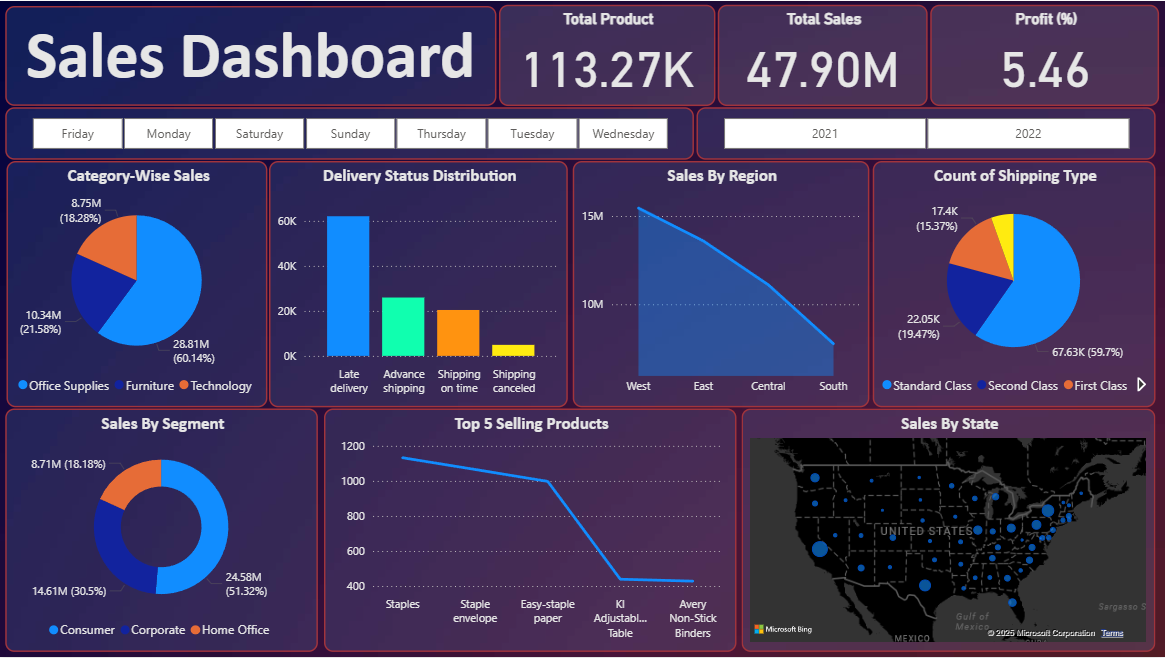

Layout of this report page (visuals, bound fields, positions):
{"tool":"powerbi","page":{"name":"Dashboard","canvas":[1280,720],"ordinal":0},"visuals":[{"type":"pieChart","title":"Category-Wise Sales","fields":{"Category":["sales data bi.category_name"],"Y":["Sum(sales data bi.Total_Sales)"]},"box":[8.2,175.6,286.8,270.3],"z":0},{"type":"map","title":"Sales By State","fields":{"Size":["Sum(sales data bi.Total_Sales)"],"Category":["sales data bi.customer_state"]},"box":[815.1,447.3,454.2,267.6],"z":1000},{"type":"lineChart","title":"Top 5 Selling Products","fields":{"Category":["sales data bi.product_name"],"Y":["Sum(sales data bi.quantity)"]},"box":[356.8,447.3,452.8,267.6],"z":2000},{"type":"donutChart","title":"Sales By Segment","fields":{"Category":["sales data bi.customer_segment"],"Y":["Sum(sales data bi.Total_Sales)"]},"box":[6.9,447.3,343.1,267.6],"z":3000},{"type":"areaChart","title":"Sales By Region","fields":{"Y":["Sum(sales data bi.Total_Sales)"],"Category":["sales data bi.customer_region"]},"box":[629.8,175.6,325.2,270.3],"z":4000},{"type":"columnChart","title":"Delivery Status Distribution","fields":{"Category":["sales data bi.delivery_status"],"Y":["CountNonNull(sales data bi.delivery_status)"]},"box":[296.4,175.6,328,270.3],"z":5000},{"type":"pieChart","title":"Count of Shipping Type","fields":{"Category":["sales data bi.shipping_type"],"Y":["CountNonNull(sales data bi.shipping_type)"]},"box":[959.2,175.6,310.1,270.3],"z":6000},{"type":"slicer","fields":{"Values":["sales data bi.Order Day"]},"box":[6.9,116.6,756.1,57.6],"z":7000},{"type":"slicer","fields":{"Values":["sales data bi.Year"]},"box":[765.7,116.6,503.6,57.6],"z":8000},{"type":"card","title":"Profit (%)","fields":{"Values":["sales data bi.Profit(%)"]},"box":[1022.3,4.1,251.1,111.1],"z":9000},{"type":"card","title":"Total Sales","fields":{"Values":["Sum(sales data bi.Total_Sales)"]},"box":[789,4.1,230.5,111.1],"z":10000},{"type":"card","title":"Total Product","fields":{"Values":["CountNonNull(sales data bi.product_name)"]},"box":[548.9,4.1,237.4,111.1],"z":11000},{"type":"textbox","box":[6.9,5.5,539.3,109.8],"z":12000}]}

Visuals, with their boxes in screenshot pixels (x1, y1, x2, y2), scaled from the page's 1280x720 canvas onto the 1165x658 screenshot:
"Category-Wise Sales" pieChart: {"x1": 7, "y1": 160, "x2": 268, "y2": 408}
"Sales By State" map: {"x1": 742, "y1": 409, "x2": 1155, "y2": 653}
"Top 5 Selling Products" lineChart: {"x1": 325, "y1": 409, "x2": 737, "y2": 653}
"Sales By Segment" donutChart: {"x1": 6, "y1": 409, "x2": 319, "y2": 653}
"Sales By Region" areaChart: {"x1": 573, "y1": 160, "x2": 869, "y2": 408}
"Delivery Status Distribution" columnChart: {"x1": 270, "y1": 160, "x2": 568, "y2": 408}
"Count of Shipping Type" pieChart: {"x1": 873, "y1": 160, "x2": 1155, "y2": 408}
slicer - sales data bi.Order Day: {"x1": 6, "y1": 107, "x2": 694, "y2": 159}
slicer - sales data bi.Year: {"x1": 697, "y1": 107, "x2": 1155, "y2": 159}
"Profit (%)" card: {"x1": 930, "y1": 4, "x2": 1159, "y2": 105}
"Total Sales" card: {"x1": 718, "y1": 4, "x2": 928, "y2": 105}
"Total Product" card: {"x1": 500, "y1": 4, "x2": 716, "y2": 105}
textbox: {"x1": 6, "y1": 5, "x2": 497, "y2": 105}
